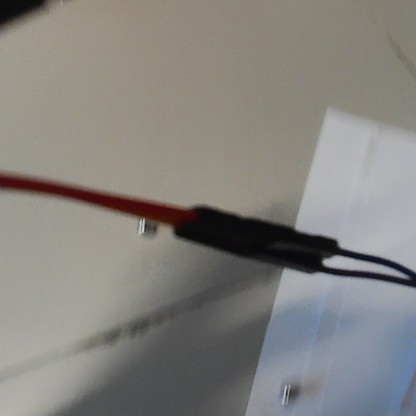ironball: (275, 376, 303, 408), (134, 213, 161, 242)
